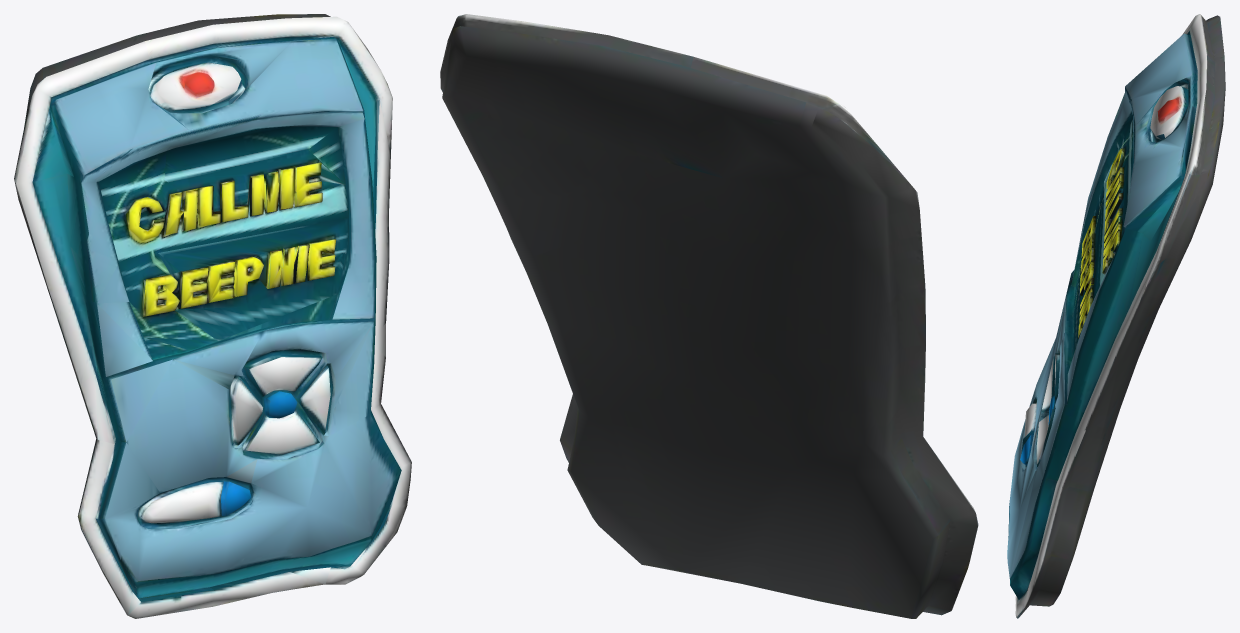
Rendered from Kim_Possible_CellPhone.glb.
3 renders of one model, left to right at view 1: azimuth 30°, elevation 25°; view 2: azimuth 150°, elevation 25°; view 3: azimuth 270°, elevation 25°, orthographic. The views are drawn at different scales.
Parts seen in each view (by area): view 1: LOD0; view 2: LOD0; view 3: LOD0.
Boxes of the visible parts, bbox=[...] form: LOD0: bbox=[14, 14, 411, 618]; LOD0: bbox=[440, 14, 978, 618]; LOD0: bbox=[1007, 14, 1225, 618].
Size of what is drawn, in the model's own units: 0.8065 by 1.02 by 0.4004.
Materials: 1 (1 with a texture image).
